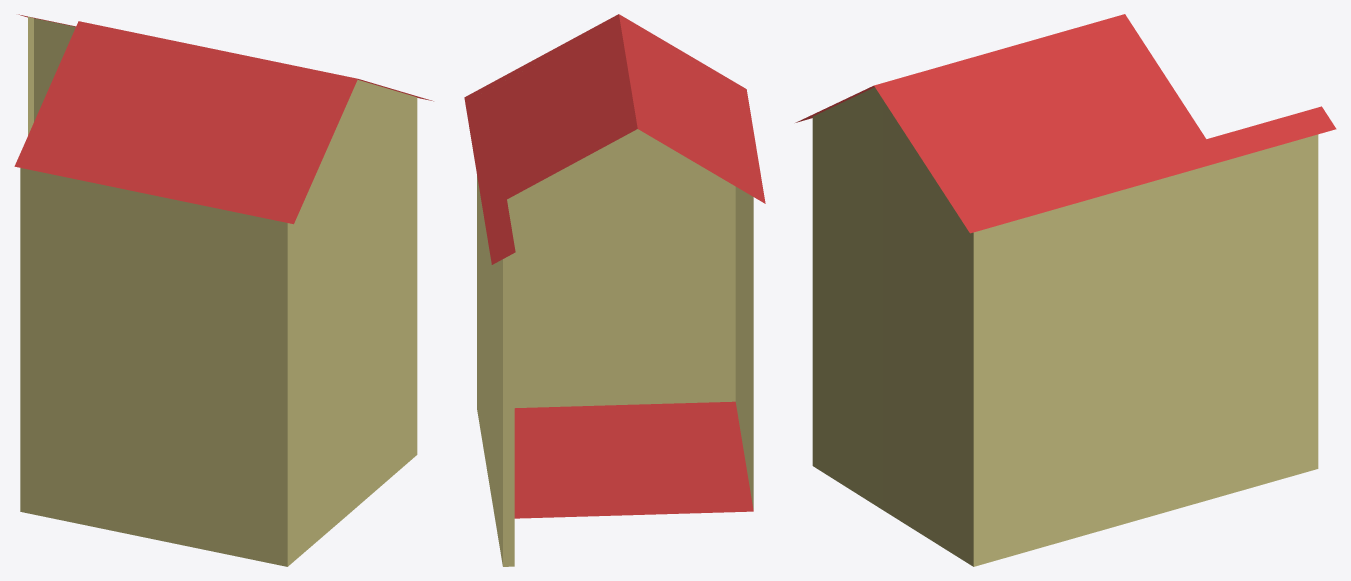
3 renders of one model, left to right at view 1: azimuth 30°, elevation 25°; view 2: azimuth 150°, elevation 25°; view 3: azimuth 270°, elevation 25°, orthographic. The views are drawn at different scales.
Bounding box in the file's own units: 8.12 × 10.24 × 8.94.
